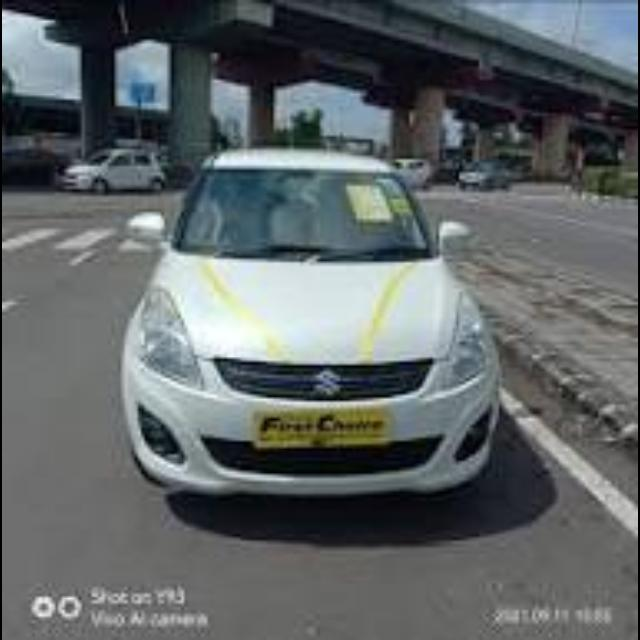number-plate: (251, 401, 390, 447)
vehicles: (105, 137, 526, 498), (59, 146, 168, 192), (2, 146, 58, 186), (456, 156, 516, 189), (390, 156, 430, 186)
